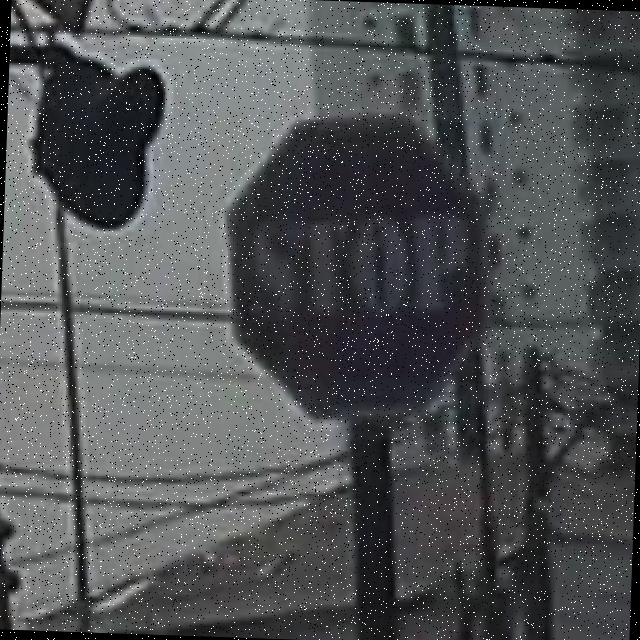Stop: (225, 115, 499, 424)
